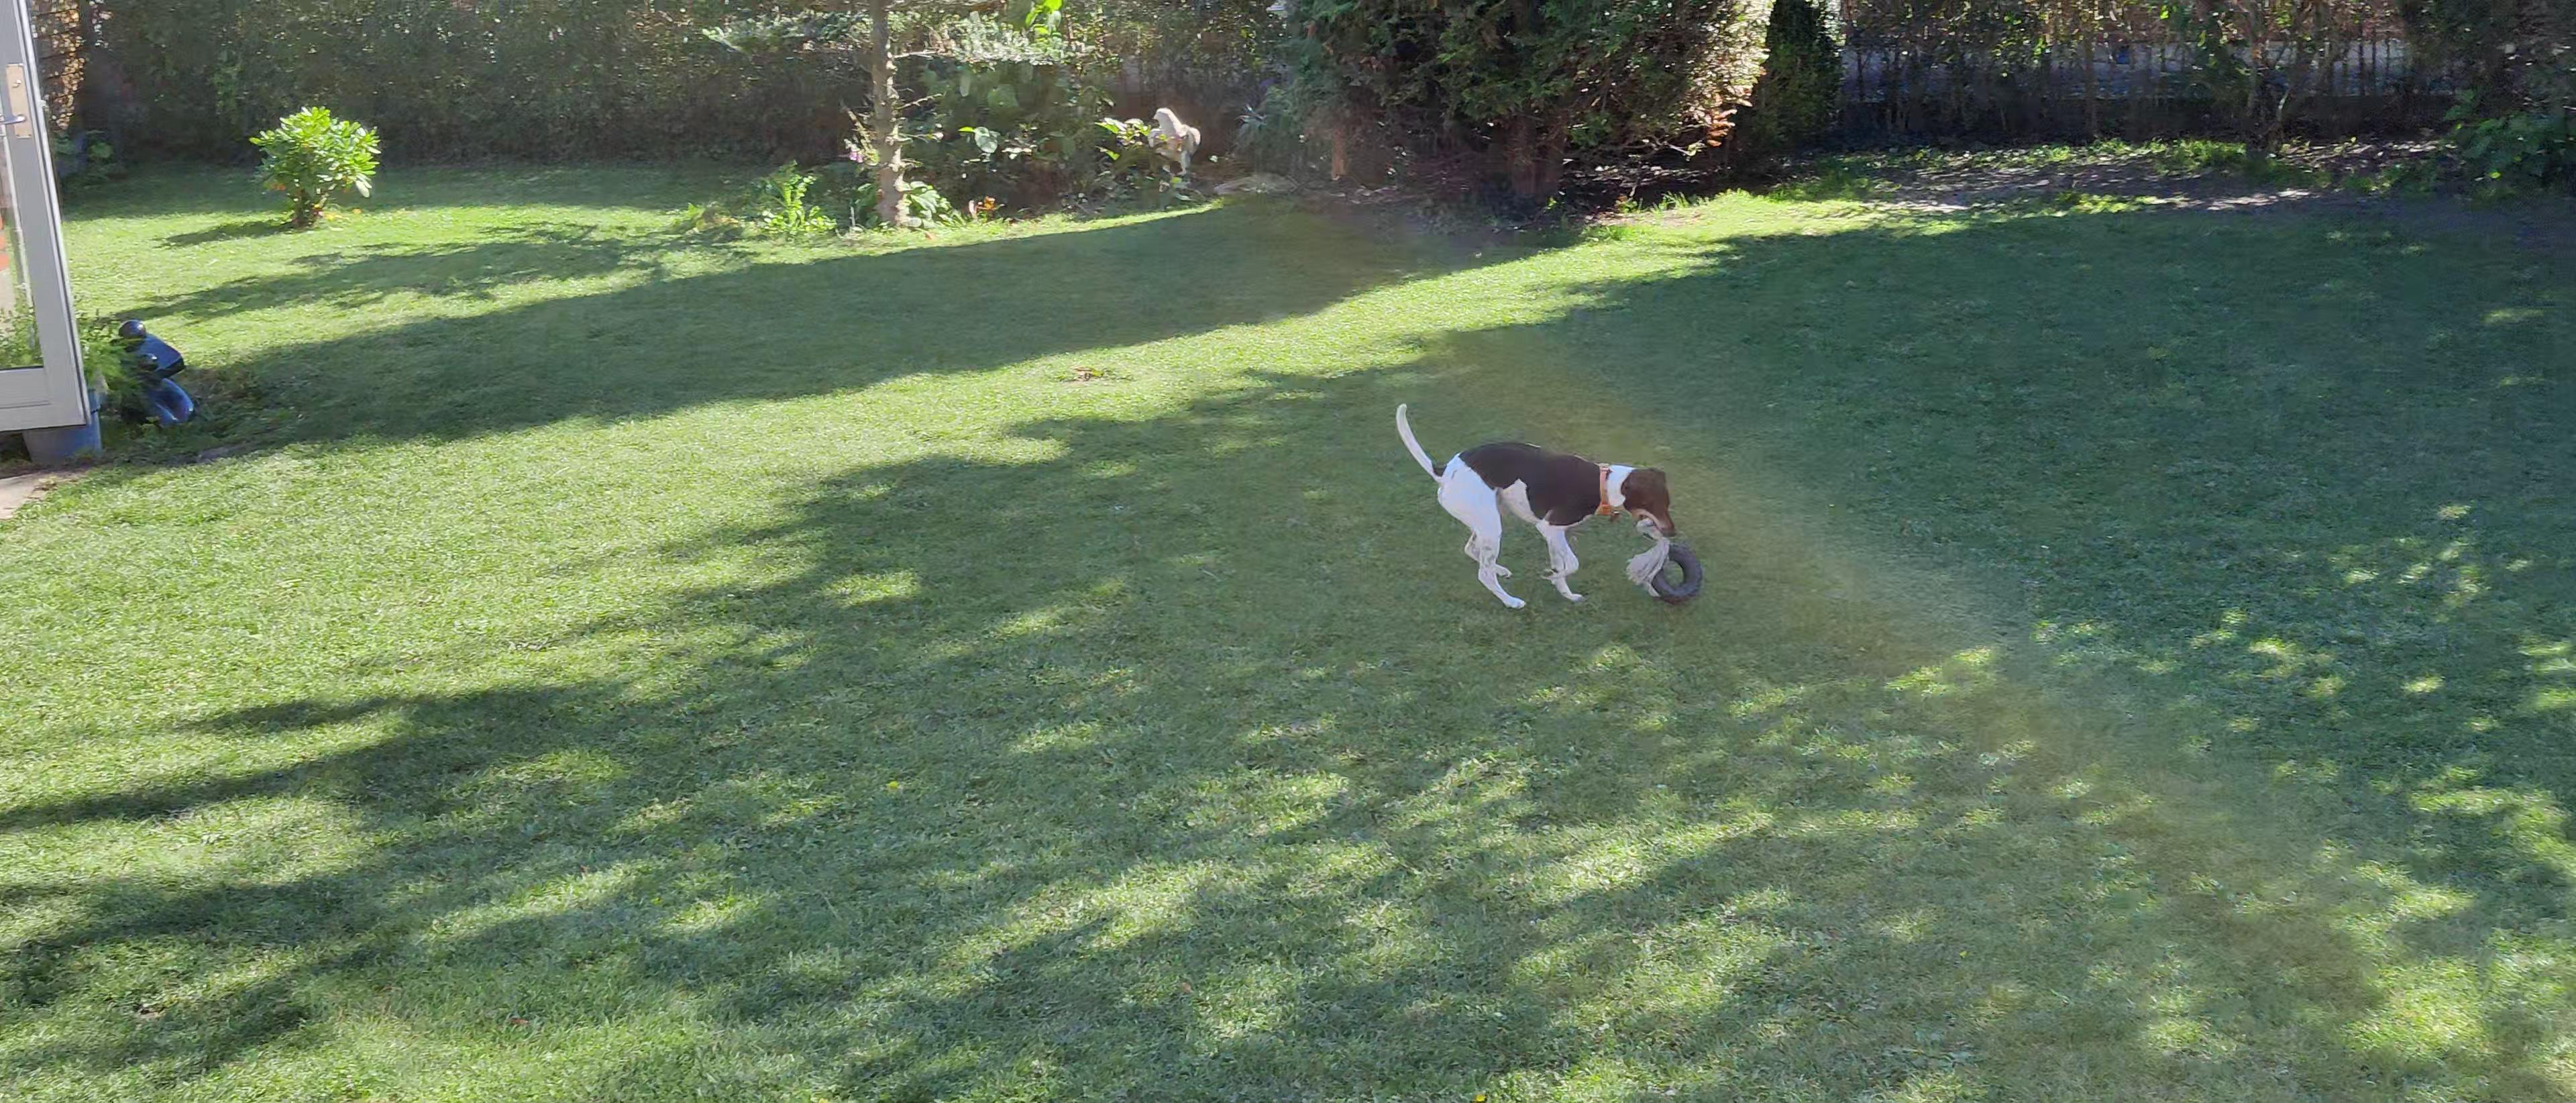Dog: (1390, 388, 1681, 618)
